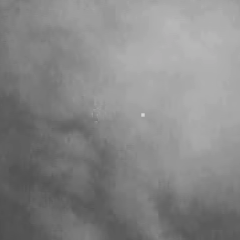Target: (138, 111, 146, 119)
